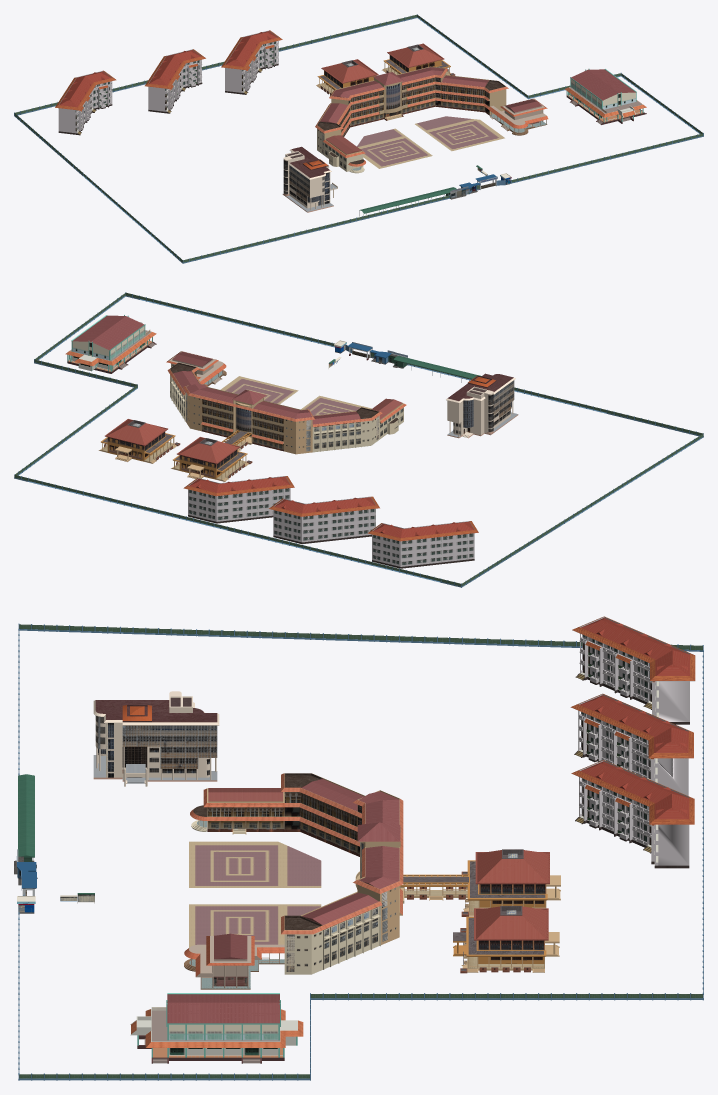
File: Truong Cao Dang Binh Phuoc.glb
3 views of the same model, one above another, from view 1: azimuth 30°, elevation 25°; view 2: azimuth 150°, elevation 25°; view 3: azimuth 270°, elevation 25° (orthographic). The views are drawn at different scales.
Parts seen in each view (by area): view 1: BPH079.4, BPH079.1-3, Plane080, BPH079.2, BPH079.8, BPH079.6-2, BPH079.6-1, BPH079.6, BPH079.3, BPH079.5-1, BPH079.5, BPH079.7; view 2: BPH079.4, BPH079.1-3, BPH079.6-2, BPH079.6-1, BPH079.6, BPH079.8, BPH079.2, BPH079.5, BPH079.5-1, Plane080, BPH079.3, BPH079.7; view 3: BPH079.4, BPH079.1-3, BPH079.8, BPH079.2, Plane080, BPH079.6, BPH079.6-2, BPH079.6-1, BPH079.5, BPH079.5-1, BPH079.7, BPH079.3.
Boxes of the visible parts, x1,y1,x2,y2 form: BPH079.4: (315, 66, 508, 155); BPH079.1-3: (14, 14, 703, 263); Plane080: (357, 116, 504, 168); BPH079.2: (565, 68, 646, 124); BPH079.8: (282, 146, 337, 212); BPH079.6-2: (55, 70, 116, 135); BPH079.6-1: (145, 49, 205, 113); BPH079.6: (221, 30, 282, 94); BPH079.3: (488, 98, 548, 135); BPH079.5-1: (382, 43, 455, 75); BPH079.5: (316, 59, 378, 95); BPH079.7: (323, 135, 365, 173); BPH079.4: (167, 362, 382, 454); BPH079.1-3: (14, 292, 703, 587); BPH079.6-2: (367, 521, 478, 568); BPH079.6-1: (269, 496, 379, 544); BPH079.6: (183, 476, 294, 523); BPH079.8: (446, 373, 518, 438); BPH079.2: (65, 315, 156, 373); BPH079.5: (171, 430, 252, 481); BPH079.5-1: (98, 419, 180, 463); Plane080: (220, 376, 371, 415); BPH079.3: (166, 351, 226, 386); BPH079.7: (371, 398, 406, 439); BPH079.4: (281, 773, 404, 974); BPH079.1-3: (14, 623, 703, 1080); BPH079.8: (93, 691, 219, 786); BPH079.2: (130, 993, 303, 1063); Plane080: (189, 841, 321, 947); BPH079.6: (571, 760, 694, 868); BPH079.6-2: (572, 616, 695, 724); BPH079.6-1: (570, 693, 693, 795); BPH079.5: (400, 849, 560, 916); BPH079.5-1: (453, 906, 559, 973); BPH079.7: (190, 788, 284, 834); BPH079.3: (184, 933, 284, 989).
Bounding box in the file's own units: 348 × 26.46 × 225.
Materials: 13 (13 with a texture image).
